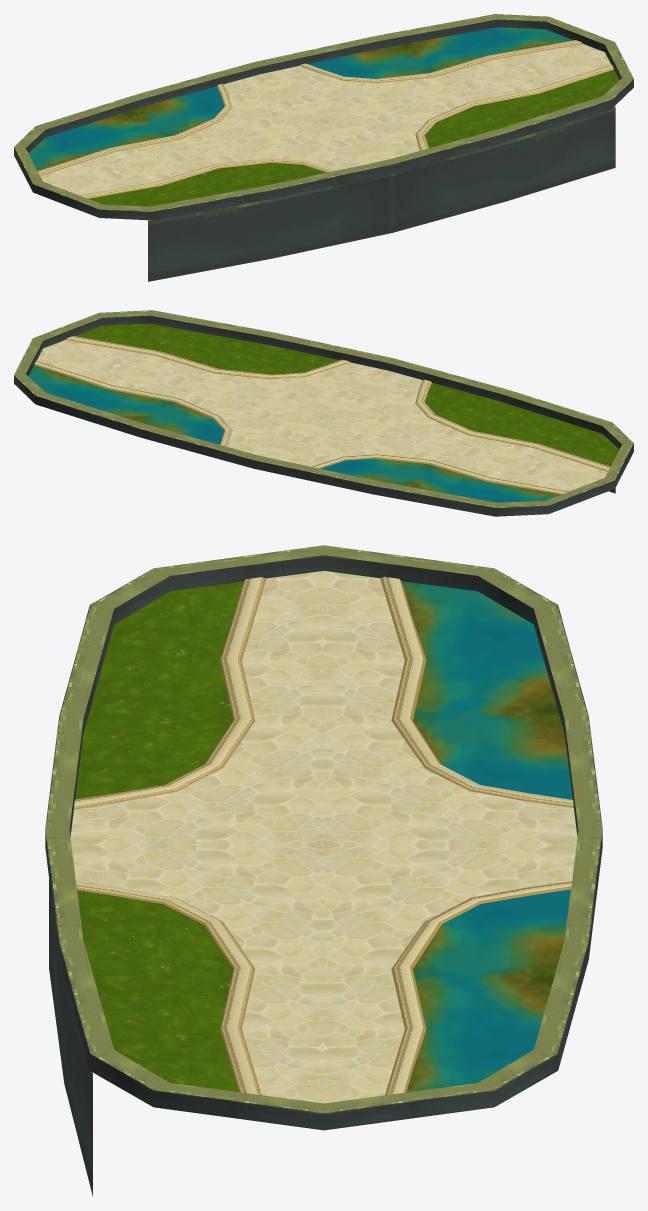
File: ruyi_pk01.FBX
3 renders of one model, top to bottom at view 1: azimuth 30°, elevation 25°; view 2: azimuth 150°, elevation 25°; view 3: azimuth 270°, elevation 25°, orthographic. The views are drawn at different scales.
Parts seen in each view (by area): view 1: weiqiang, dimian01, shuitan02, dimian05, qiang05; view 2: dimian01, weiqiang, dimian05, shuitan02, qiang05; view 3: dimian01, weiqiang, shuitan02, dimian05, qiang05.
Part boxes in pixels (left/top/right/bottom): weiqiang: left=14, top=14, right=633, bottom=281; dimian01: left=40, top=44, right=610, bottom=195; shuitan02: left=28, top=27, right=573, bottom=170; dimian05: left=88, top=69, right=619, bottom=206; qiang05: left=37, top=40, right=613, bottom=198; dimian01: left=37, top=340, right=607, bottom=491; weiqiang: left=14, top=310, right=633, bottom=516; dimian05: left=75, top=323, right=619, bottom=466; shuitan02: left=28, top=365, right=560, bottom=502; qiang05: left=34, top=336, right=610, bottom=494; dimian01: left=70, top=571, right=577, bottom=1103; weiqiang: left=45, top=545, right=602, bottom=1196; shuitan02: left=401, top=581, right=572, bottom=1092; dimian05: left=75, top=581, right=243, bottom=1091; qiang05: left=74, top=577, right=573, bottom=1095.
Bounding box in the file's own units: 6109 × 2534 × 698.
